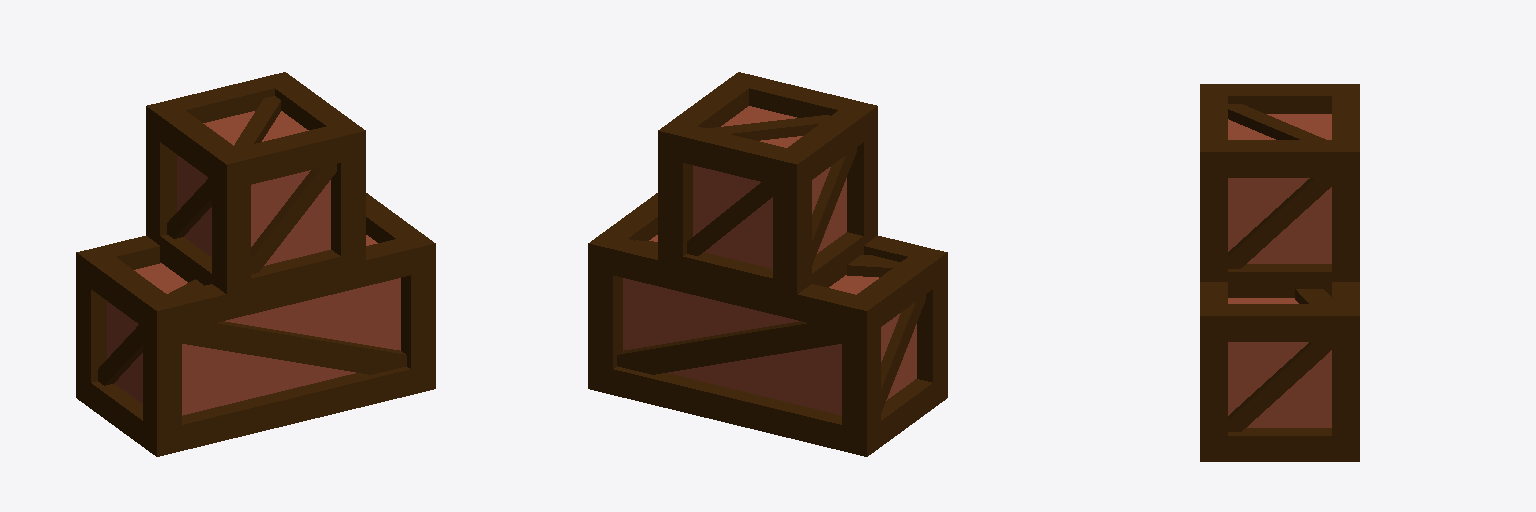
Rendered from obstacle3.obj.
The picture shows the model from 3 angles: view 1: azimuth 30°, elevation 25°; view 2: azimuth 150°, elevation 25°; view 3: azimuth 270°, elevation 25°; orthographic projection.
Visible parts, largest first — view 1: mergedBlocks; view 2: mergedBlocks; view 3: mergedBlocks.
Part boxes in pixels (x1,y1,x2,y2): mergedBlocks: (76,72,435,456); mergedBlocks: (588,72,947,456); mergedBlocks: (1200,84,1359,461).
Size of the model in its own units: 0.9 by 0.85 by 0.45.